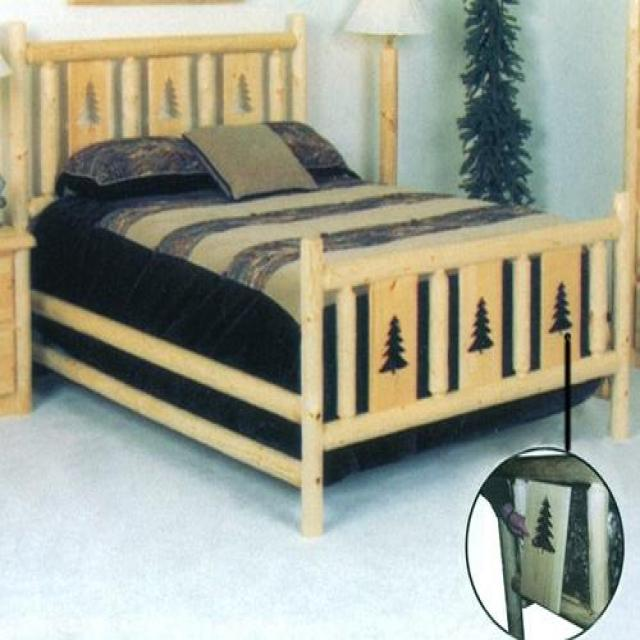bed: (1, 11, 639, 538)
